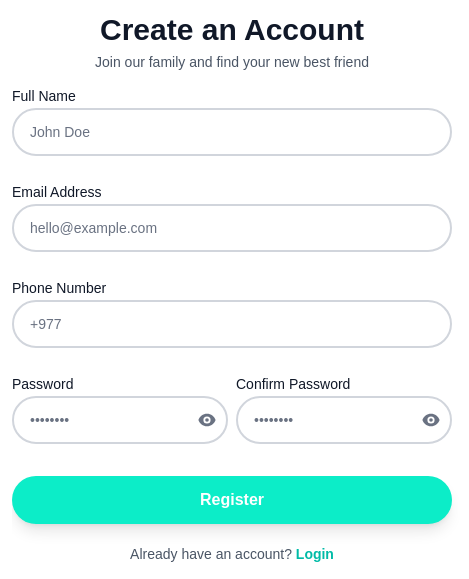
it: RegisterForm › Form validation › shows error when full name is empty
Click the button "Register". click: click(232, 500)
box: [12,476,452,524]
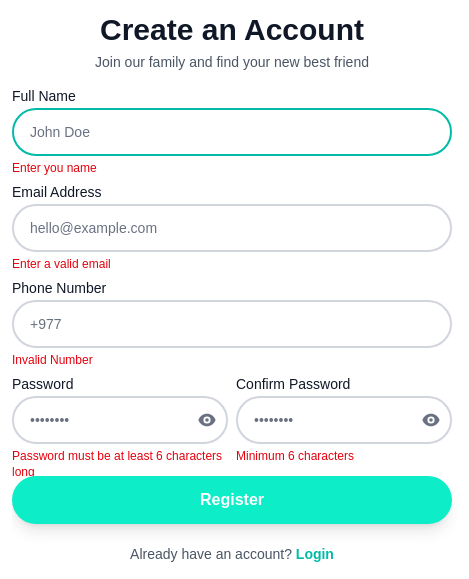
Result: the text "Enter you name" is shown at [12,161,97,175]
